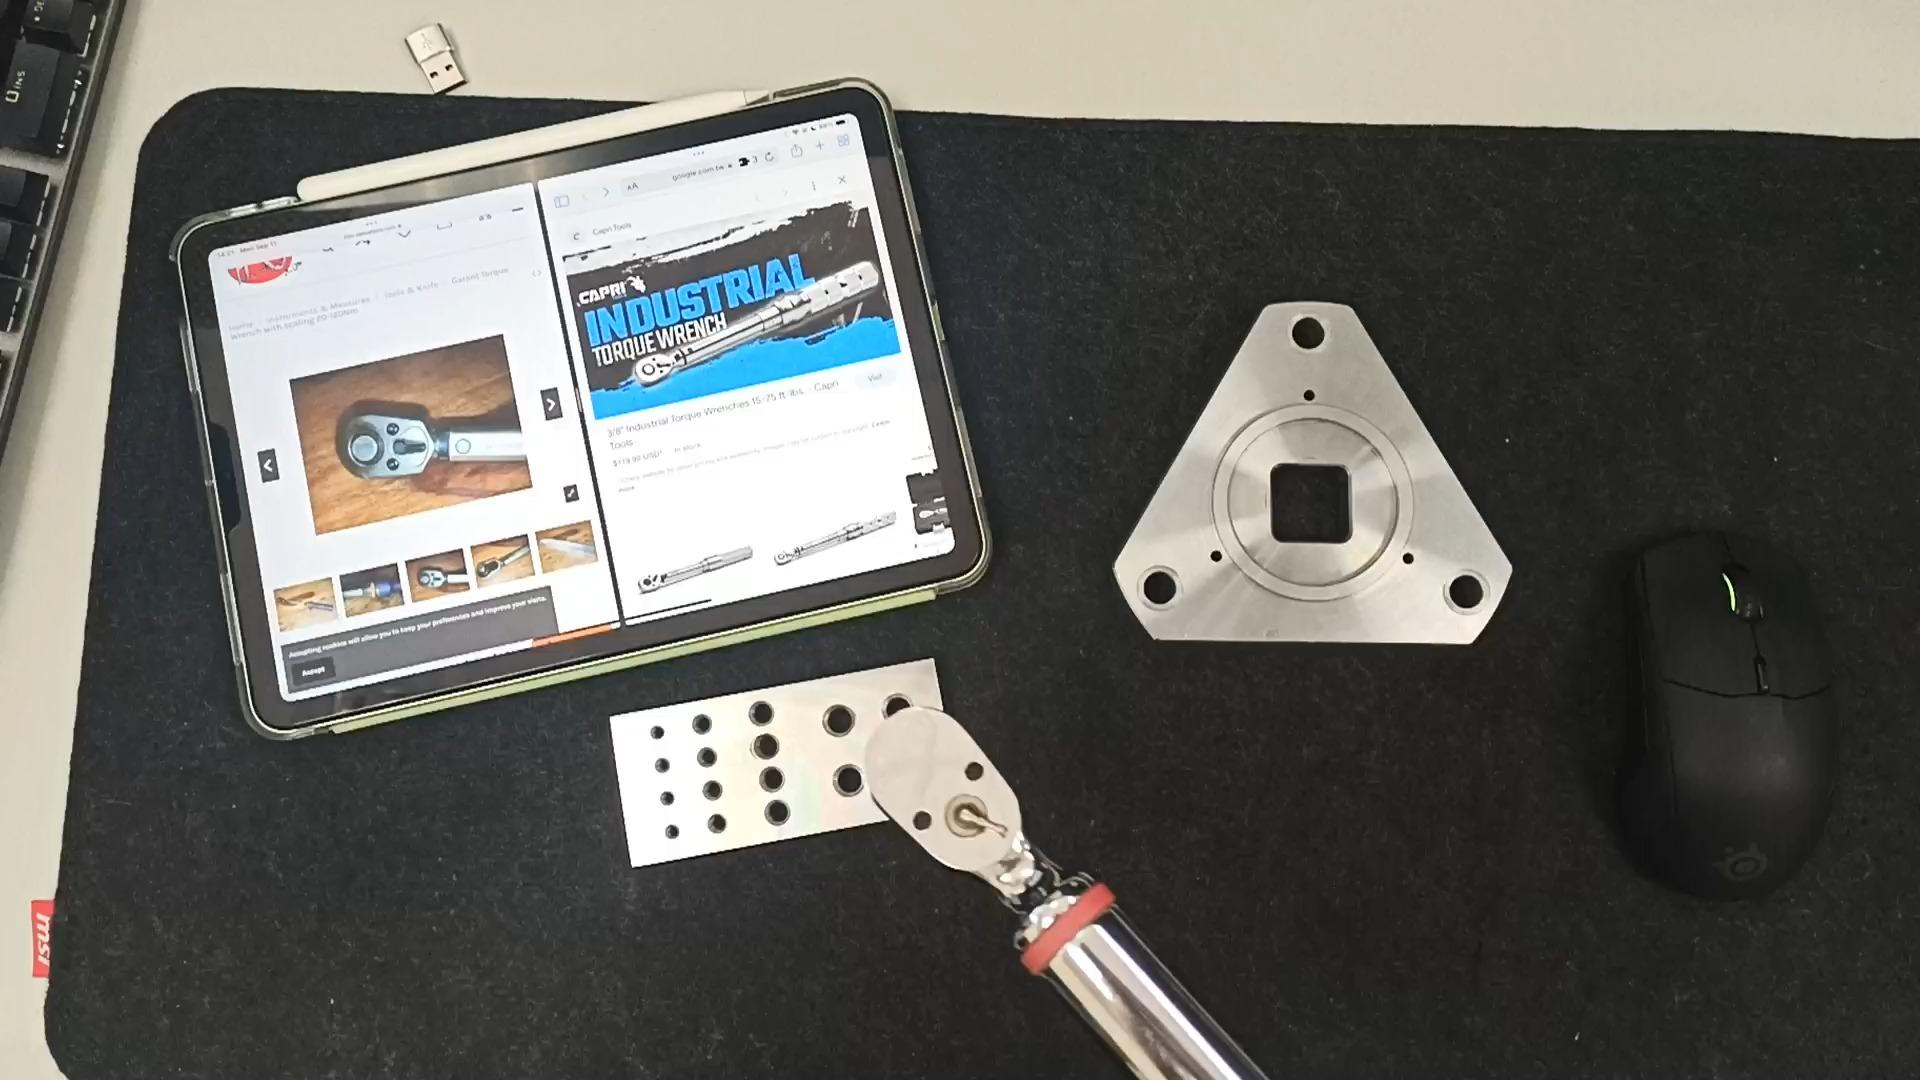Tool: (866, 705, 1087, 931), (338, 409, 439, 477), (634, 352, 678, 385)
hole: (1427, 568, 1506, 625), (1269, 310, 1342, 363), (1127, 564, 1191, 613), (815, 760, 880, 802), (807, 702, 870, 740), (864, 690, 923, 725), (728, 698, 783, 729), (750, 799, 806, 831), (733, 732, 786, 764), (748, 764, 800, 794), (682, 745, 725, 771), (678, 711, 720, 735), (687, 782, 727, 806), (691, 814, 731, 835), (650, 820, 686, 841), (640, 724, 674, 744), (644, 756, 678, 775), (649, 791, 683, 811)
